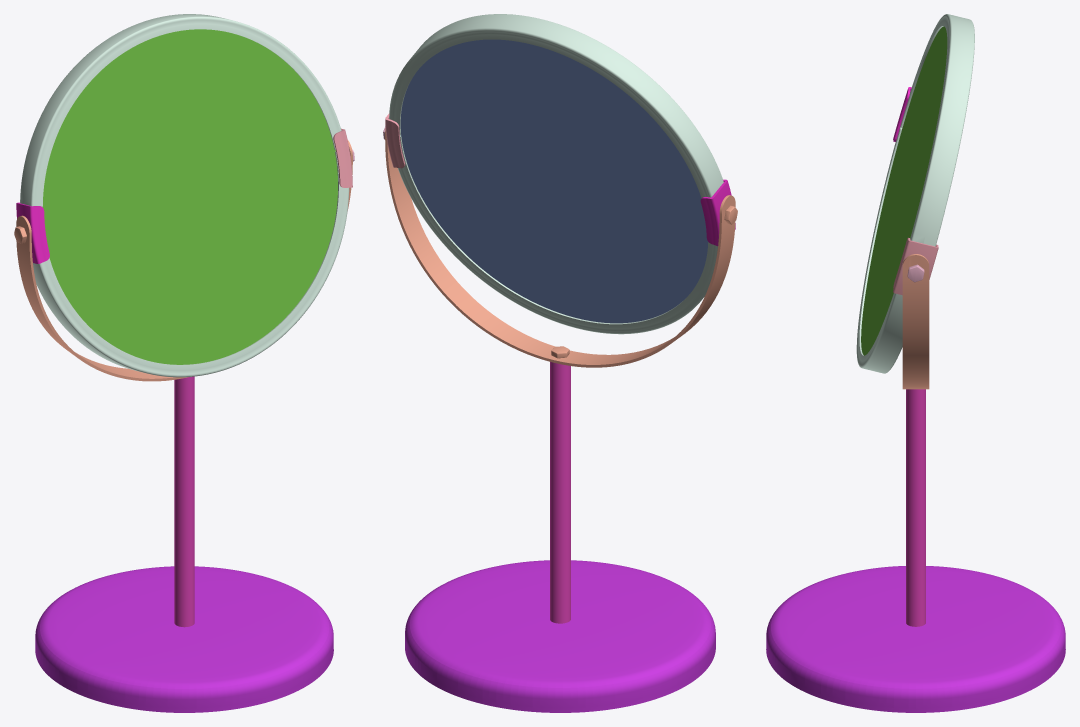
The picture shows the model from 3 angles, left to right: view 1: azimuth 30°, elevation 25°; view 2: azimuth 150°, elevation 25°; view 3: azimuth 270°, elevation 25°; orthographic projection. The views are drawn at different scales.
Visible parts, largest first — view 1: MIRROR 2.001_Material.009_0, split_parent_0, split_parent_4, FOOT_Material.005_0, split_parent_2, CLAMP_Material.004_0, CLAMP_Material.004_0.007; view 2: MIRROR 2_Material.009_0, split_parent_0, split_parent_4, split_parent_2, FOOT_Material.005_0, CLAMP_Material.004_0, CLAMP_Material.004_0.007; view 3: split_parent_0, split_parent_4, MIRROR 2.001_Material.009_0, FOOT_Material.005_0, split_parent_2, CLAMP_Material.004_0.007.
Part boxes in pixels (x1,y1,x2,y2): MIRROR 2.001_Material.009_0: [42, 29, 337, 364]; split_parent_0: [35, 566, 333, 712]; split_parent_4: [20, 14, 349, 377]; FOOT_Material.005_0: [174, 376, 194, 627]; split_parent_2: [14, 140, 352, 381]; CLAMP_Material.004_0: [16, 202, 49, 263]; CLAMP_Material.004_0.007: [333, 128, 352, 187]; MIRROR 2_Material.009_0: [400, 39, 708, 323]; split_parent_0: [405, 560, 715, 712]; split_parent_4: [389, 14, 723, 334]; split_parent_2: [385, 128, 737, 367]; FOOT_Material.005_0: [550, 362, 570, 623]; CLAMP_Material.004_0: [700, 179, 735, 246]; CLAMP_Material.004_0.007: [385, 113, 405, 168]; split_parent_0: [766, 566, 1065, 712]; split_parent_4: [856, 14, 974, 373]; MIRROR 2.001_Material.009_0: [861, 26, 947, 355]; FOOT_Material.005_0: [906, 389, 925, 626]; split_parent_2: [902, 254, 929, 389]; CLAMP_Material.004_0.007: [893, 238, 938, 295].
Size of the model in its own units: 0.565 by 1 by 0.4394.
